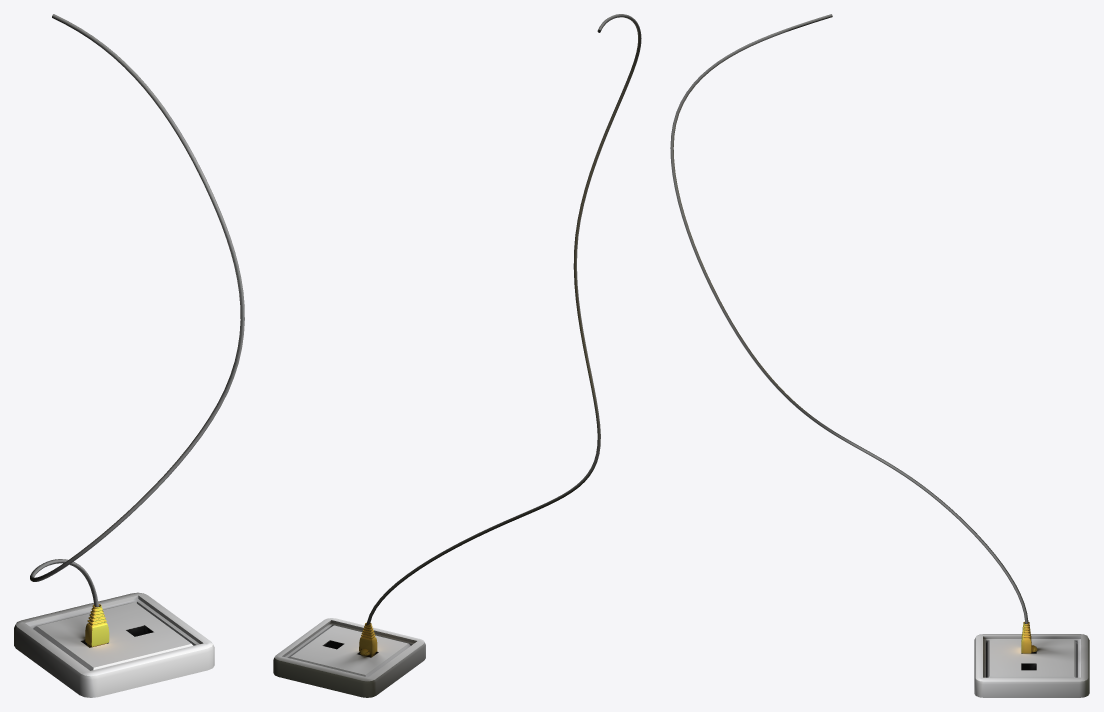
File: EthernetSource.glb
3 renders of one model, left to right at view 1: azimuth 30°, elevation 25°; view 2: azimuth 150°, elevation 25°; view 3: azimuth 270°, elevation 25°, orthographic. The views are drawn at different scales.
Parts seen in each view (by area): view 1: PortHold_Baked, UnAnimated Cable_Baked, FloorStrainReliefBoots_Baked; view 2: PortHold_Baked, UnAnimated Cable_Baked; view 3: PortHold_Baked, UnAnimated Cable_Baked.
Part boxes in pixels (x1=…): PortHold_Baked: x1=14, y1=592, x2=214, y2=697; UnAnimated Cable_Baked: x1=30, y1=14, x2=244, y2=607; FloorStrainReliefBoots_Baked: x1=85, y1=604, x2=109, y2=647; PortHold_Baked: x1=273, y1=618, x2=425, y2=697; UnAnimated Cable_Baked: x1=366, y1=14, x2=641, y2=624; PortHold_Baked: x1=974, y1=634, x2=1089, y2=697; UnAnimated Cable_Baked: x1=670, y1=14, x2=1028, y2=623.
Size of the model in its own units: 0.3246 by 0.9235 by 0.5961.
Materials: 3 (3 with a texture image).
